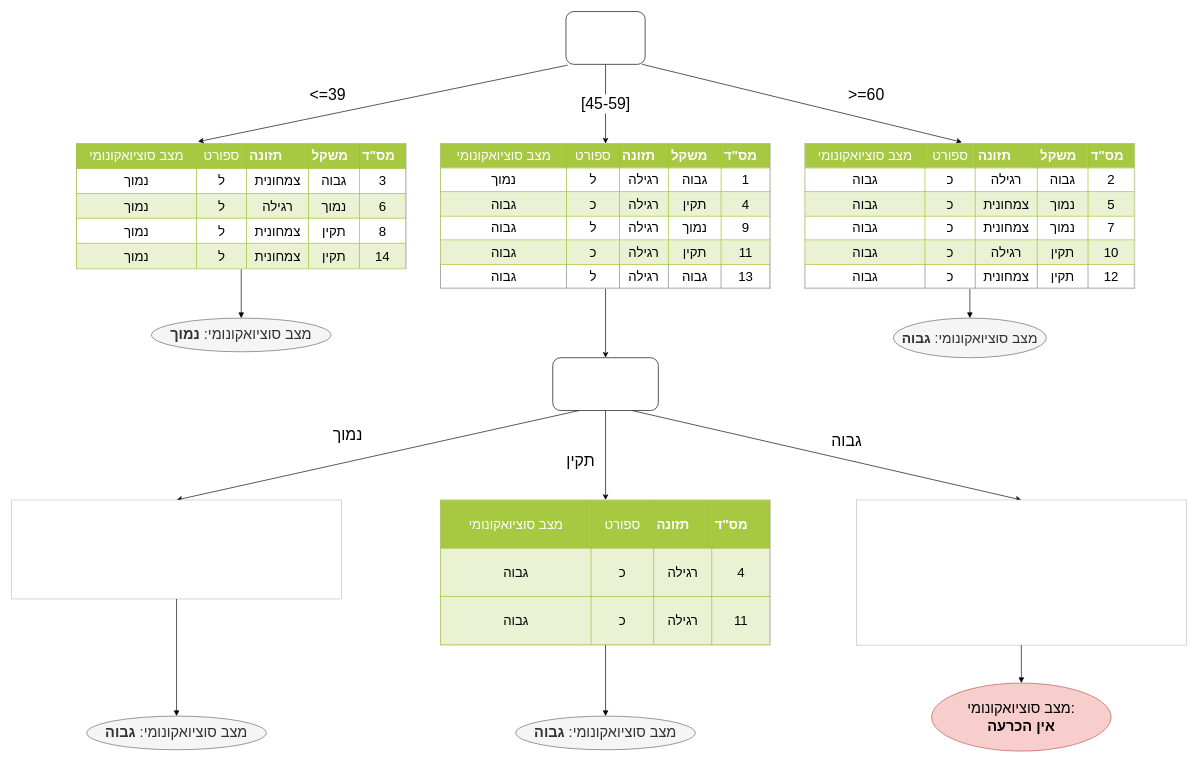
This 1198x763 diagram has some shape labels left out. Each missing label, with the centre of its shape:
גיל: (605,37)
מצב סוציואקונומי ספורט תזונה מס"ד גבוה ל רגילה 9: (176,549)
מצב סוציואקונומי ספורט תזונה מס"ד נמוך ל רגילה 1 גבוה ל רגילה 13: (1021,572)
משקל: (605,384)
